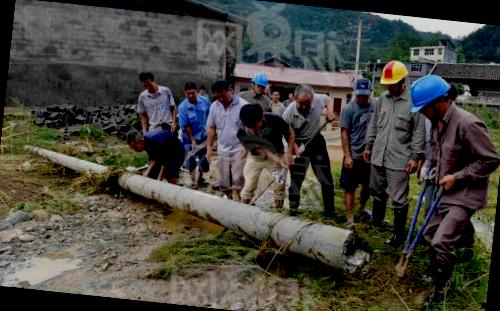no_helmet: (230, 98, 266, 136), (347, 74, 380, 107), (289, 77, 318, 114), (208, 76, 236, 104), (133, 69, 160, 97), (124, 126, 148, 154), (182, 77, 200, 102)
